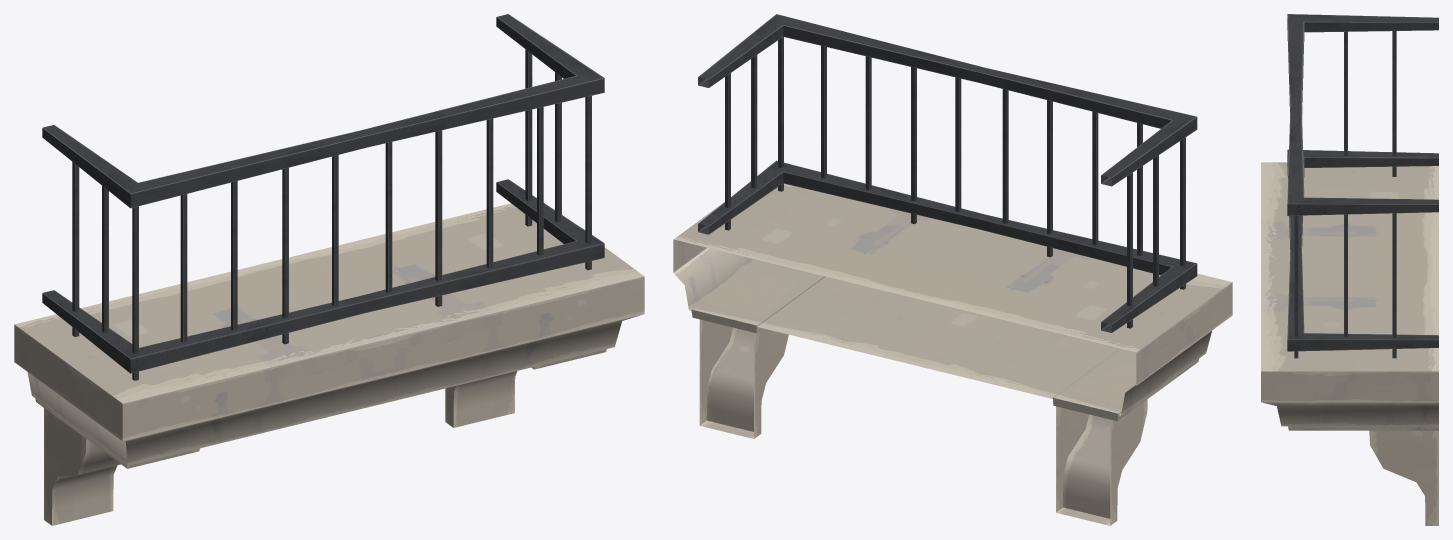
Rendered from MOD_Balcony_03_01_02.fbx.
3 renders of one model, left to right at view 1: azimuth 30°, elevation 25°; view 2: azimuth 150°, elevation 25°; view 3: azimuth 270°, elevation 25°, orthographic. The views are drawn at different scales.
Visible parts, largest first — view 1: MOD_Balcony_03_01_02; view 2: MOD_Balcony_03_01_02; view 3: MOD_Balcony_03_01_02.
Part boxes in pixels (bbox=[...]): MOD_Balcony_03_01_02: bbox=[14, 14, 644, 525]; MOD_Balcony_03_01_02: bbox=[673, 14, 1232, 525]; MOD_Balcony_03_01_02: bbox=[1261, 14, 1438, 525].
Size of the model in its own units: 245 by 177 by 88.02.
